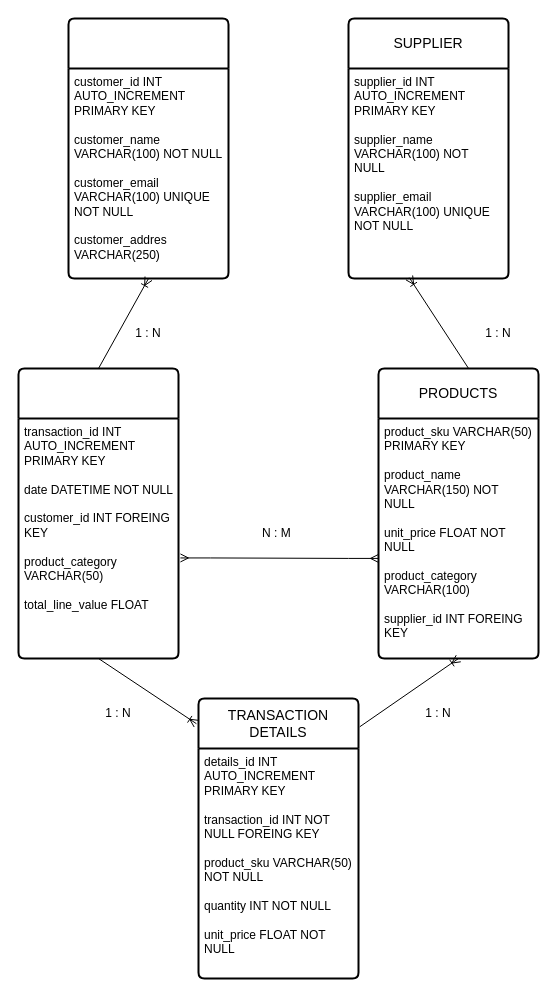
This 556x1002 diagram has some shape labels left out. The box of each missing label's shape, as (x1, y1, x2, y2) in pixels:
CLIENTS: (67, 17, 229, 279)
TRANSACTIONS: (17, 367, 179, 659)
